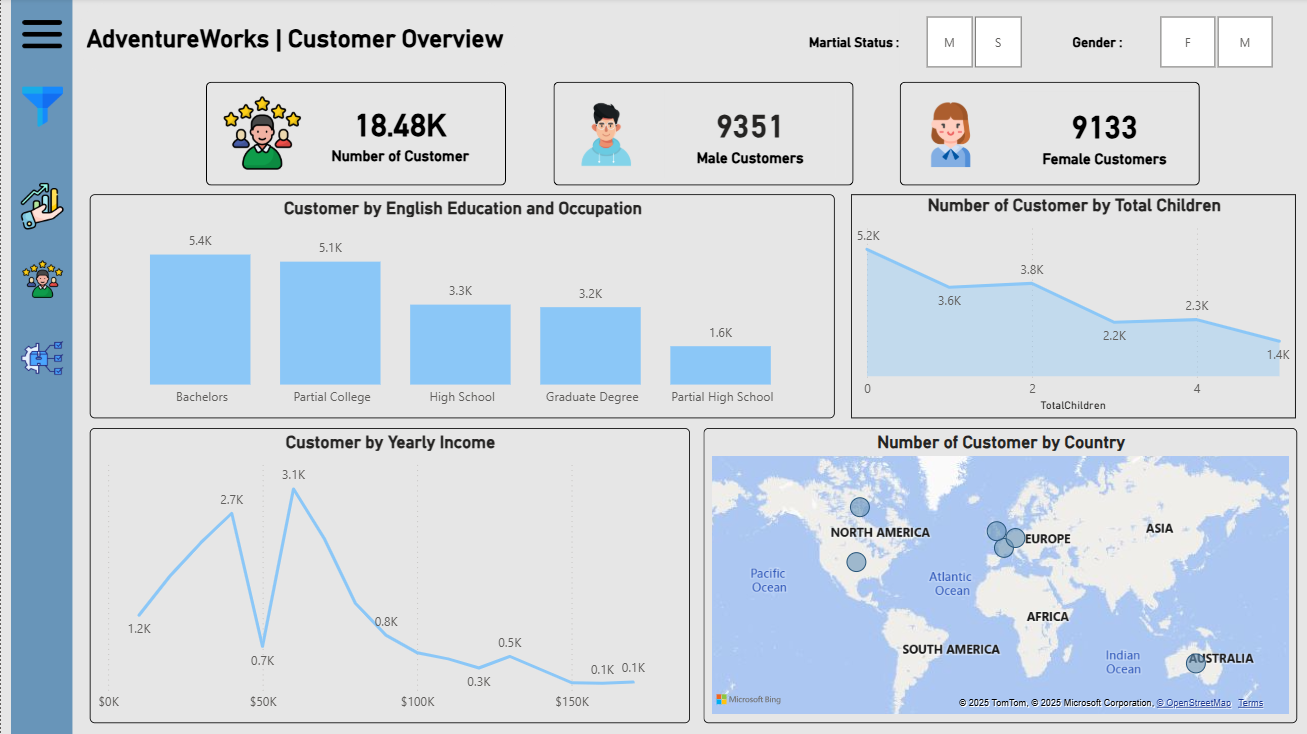

Layout of this report page (visuals, bound fields, positions):
{"tool":"powerbi","page":{"name":"Customer Overview","canvas":[1280,720],"ordinal":1},"visuals":[{"type":"shape","box":[200.5,81.9,293.5,101.5],"z":0,"group":"g1"},{"type":"shape","box":[540.5,81.9,293.5,101.5],"z":0},{"type":"shape","box":[879.2,81.9,293.5,101.5],"z":1000},{"type":"group","id":"g1","title":"Group 1","box":[200.5,81.9,293.5,101.5],"z":2000},{"type":"card","fields":{"Values":["FactInternetSales.Male Customers"]},"box":[649.3,88,167.5,88],"z":3000},{"type":"card","fields":{"Values":["FactInternetSales.Female Customers"]},"box":[995.4,91.7,168.8,83.2],"z":4000},{"type":"shape","box":[9.8,0,59.9,720.2],"z":5000},{"type":"image","box":[14.7,12.2,51.4,46.5],"z":6000},{"type":"image","box":[12.2,176.1,56.3,55],"z":7000},{"type":"image","box":[15.9,250.7,50.1,48.9],"z":8000},{"type":"image","box":[14.7,328.9,51.4,46.5],"z":9000},{"type":"shape","box":[73.4,3.7,430.4,70.9],"z":10000},{"type":"shape","box":[1037,11,70.9,63.6],"z":11000},{"type":"shape","box":[788.2,11.6,91.4,63.9],"z":12000},{"type":"image","box":[14.7,81.9,52.6,48.9],"z":13000},{"type":"card","fields":{"Values":["CountNonNull(DimCustomer.CustomerKey)"]},"box":[298.4,90.5,184.6,80.7],"z":14000},{"type":"image","box":[212.8,89.3,85.6,85.6],"z":15000},{"type":"image","box":[552.7,95.4,77,75.8],"z":16000},{"type":"image","box":[892.7,96.6,73.4,74.6],"z":17000},{"type":"map","title":"Number of Customer by Country","fields":{"Category":["DimGeography (2).EnglishCountryRegionName"],"Size":["CountNonNull(DimCustomer.CustomerKey)"]},"box":[687.2,420.7,580.8,288.6],"z":19000},{"type":"lineChart","title":"Customer by Yearly Income","fields":{"Category":["DimCustomer.YearlyIncome"],"Y":["CountNonNull(DimCustomer.CustomerKey)"]},"box":[86.8,420.7,587,288.6],"z":20000},{"type":"columnChart","title":"Customer by English Education and Occupation","fields":{"Category":["DimCustomer.EnglishEducation","DimCustomer.EnglishOccupation"],"Y":["CountNonNull(DimCustomer.CustomerKey)"]},"box":[87.1,191.6,728.7,219.2],"z":21000},{"type":"areaChart","title":"Number of Customer by Total Children","fields":{"Y":["CountNonNull(DimCustomer.CustomerKey)"],"Category":["DimCustomer.TotalChildren"]},"box":[831.8,191.6,435.5,219.2],"z":22000},{"type":"slicer","fields":{"Values":["DimCustomer.Gender"]},"box":[1107.9,11,160.2,63.6],"z":23000},{"type":"slicer","fields":{"Values":["DimCustomer.MaritalStatus"]},"box":[879.2,11,143.1,63.6],"z":24000}]}

Visuals, with their boxes on the page's 1280x720 design canvas (x1, y1, x2, y2). These are canvas units, not pixel positions in the 1307x734 screenshot, which may show the page scaled, cropped or inside an application window:
shape: (200,82,494,183)
shape: (540,82,834,183)
shape: (879,82,1173,183)
"Group 1" group: (200,82,494,183)
card - FactInternetSales.Male Customers: (649,88,817,176)
card - FactInternetSales.Female Customers: (995,92,1164,175)
shape: (10,0,70,720)
image: (15,12,66,59)
image: (12,176,68,231)
image: (16,251,66,300)
image: (15,329,66,375)
shape: (73,4,504,75)
shape: (1037,11,1108,75)
shape: (788,12,880,76)
image: (15,82,67,131)
card - CountNonNull(DimCustomer.CustomerKey): (298,90,483,171)
image: (213,89,298,175)
image: (553,95,630,171)
image: (893,97,966,171)
"Number of Customer by Country" map: (687,421,1268,709)
"Customer by Yearly Income" lineChart: (87,421,674,709)
"Customer by English Education and Occupation" columnChart: (87,192,816,411)
"Number of Customer by Total Children" areaChart: (832,192,1267,411)
slicer - DimCustomer.Gender: (1108,11,1268,75)
slicer - DimCustomer.MaritalStatus: (879,11,1022,75)
